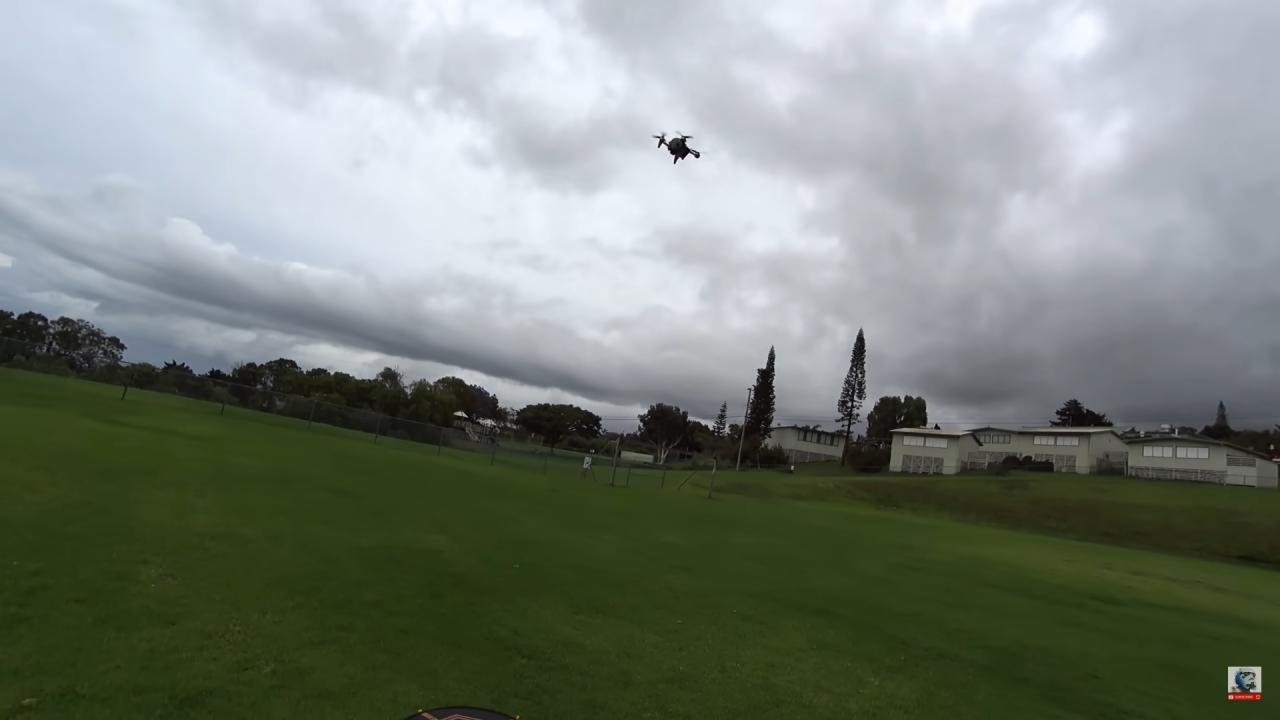Drone: (639, 115, 714, 179)
